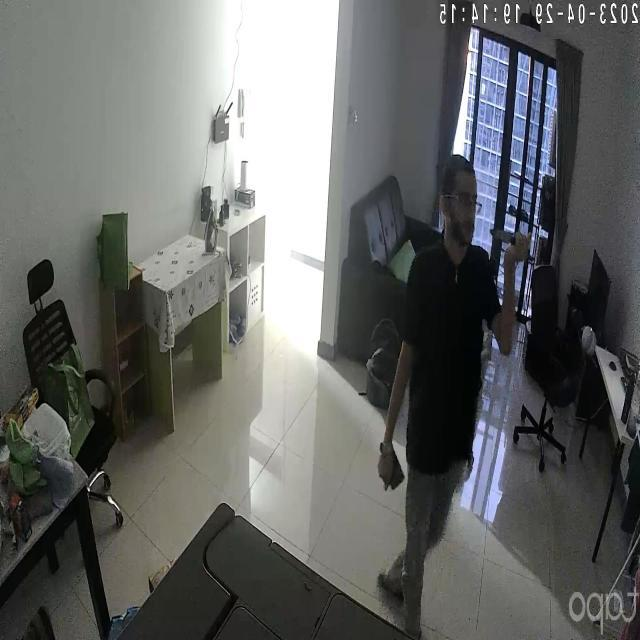Knife: (484, 218, 544, 258)
